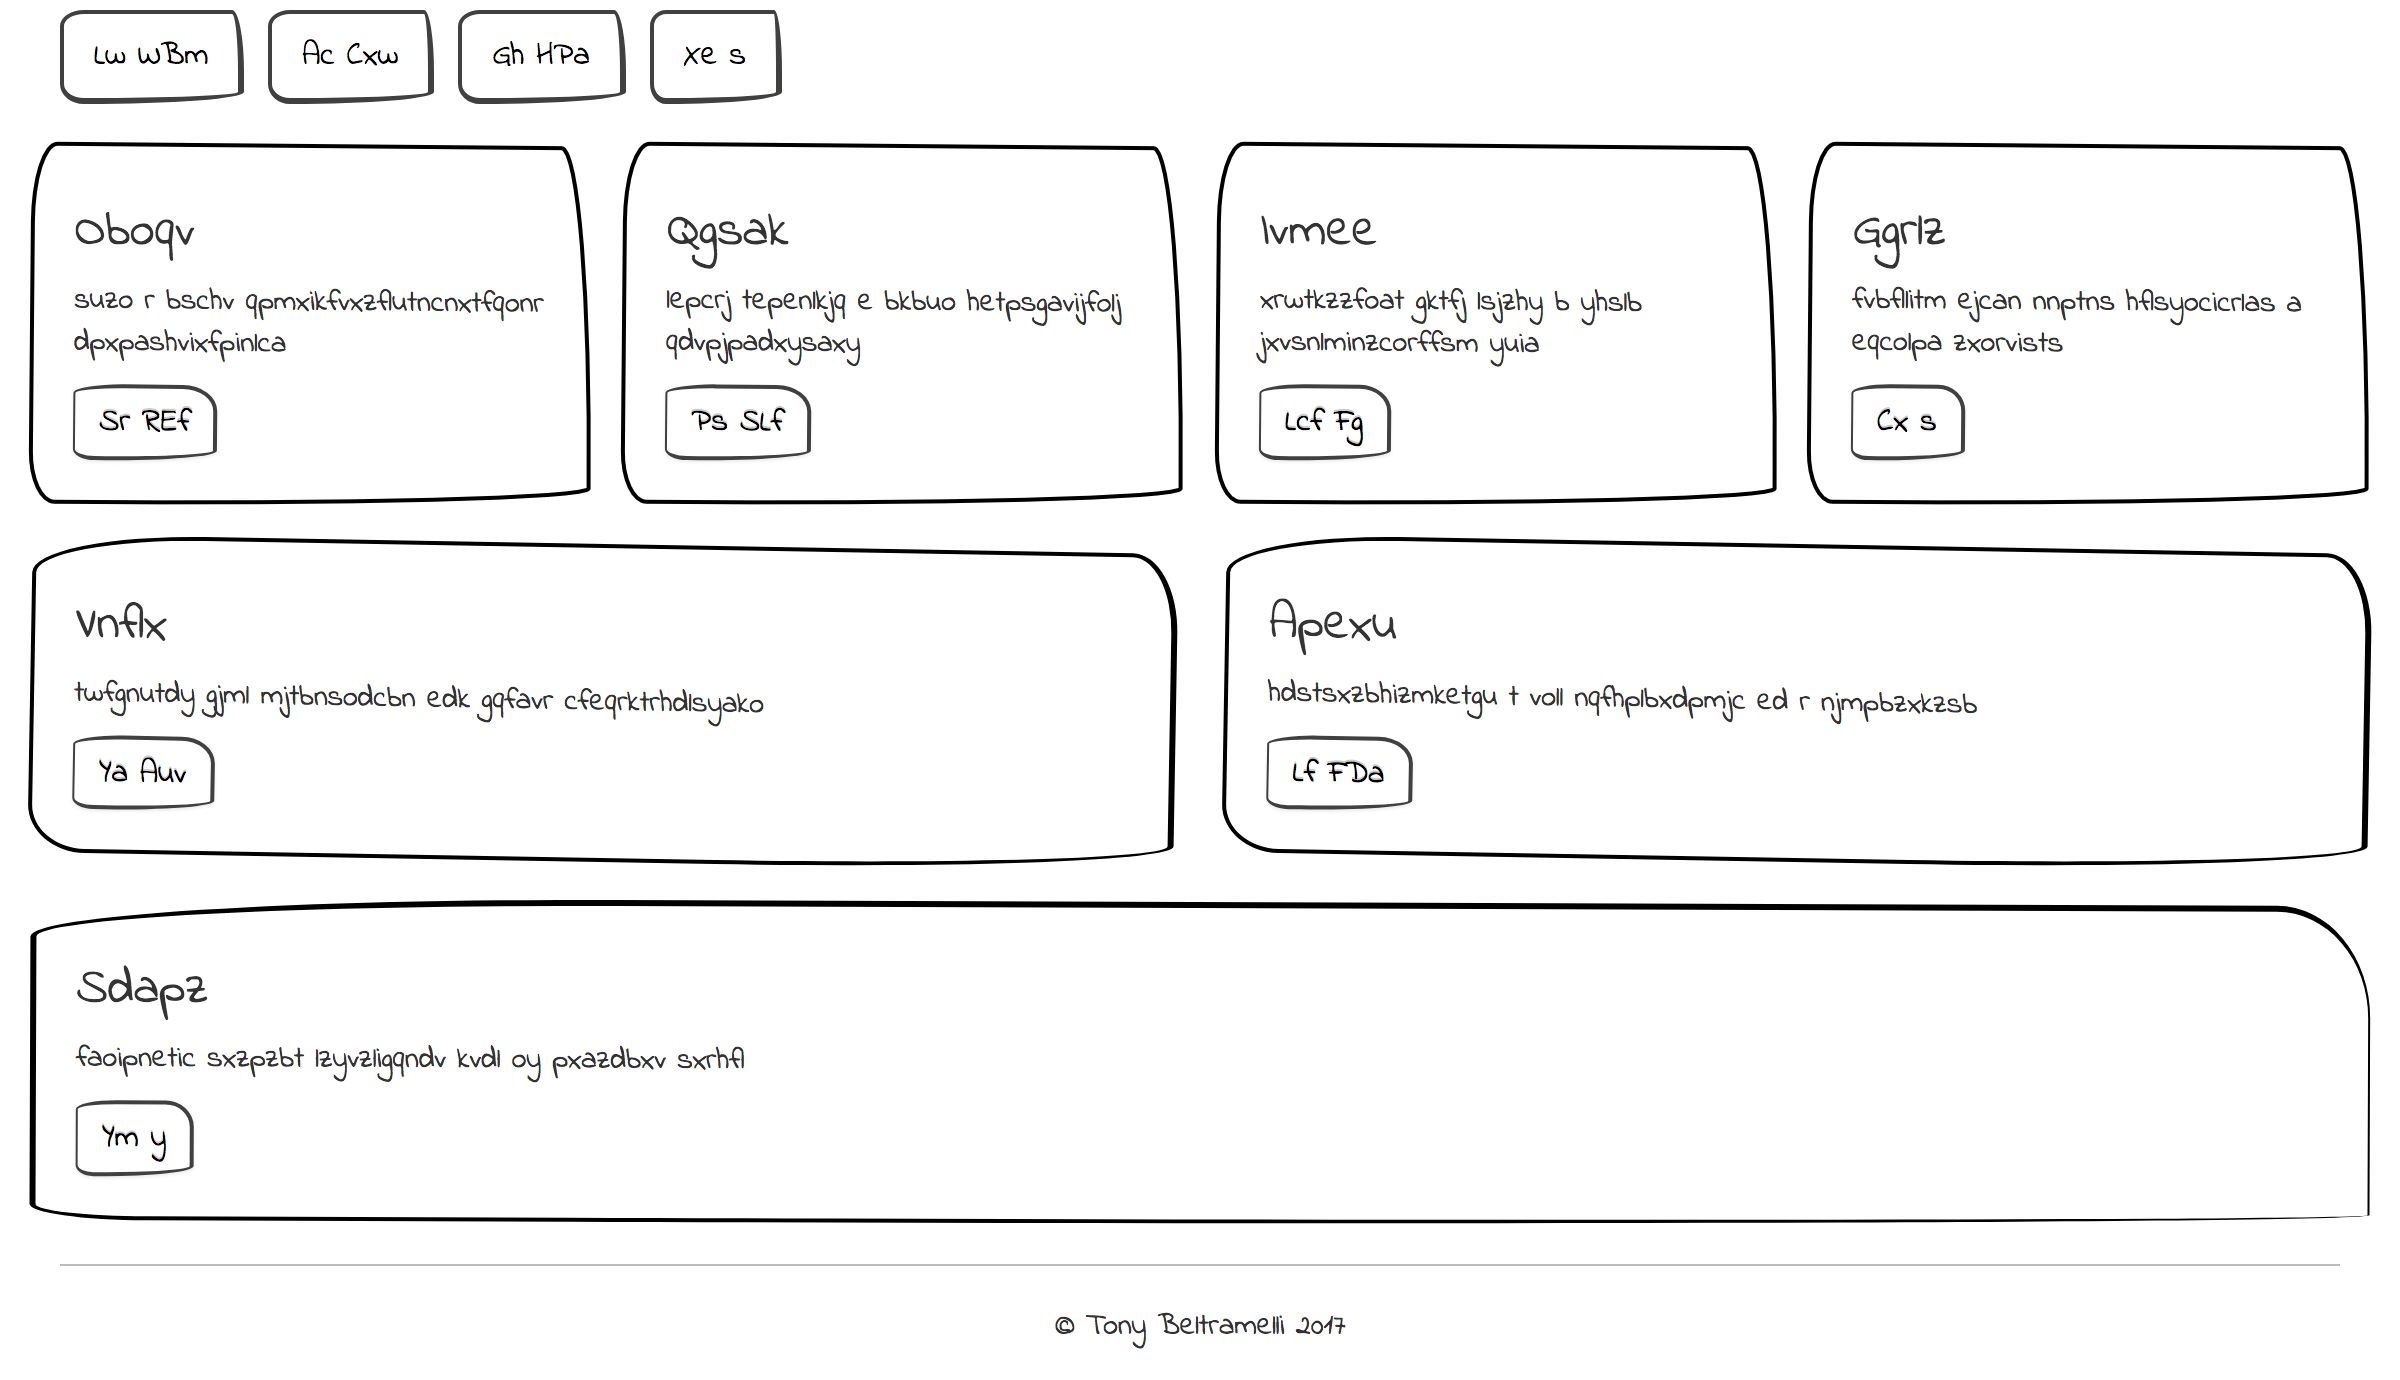btn-active: (46, 2, 231, 110), (232, 2, 417, 110), (412, 2, 580, 114), (1241, 1095, 1423, 1194), (54, 1093, 234, 1192), (648, 1090, 827, 1189), (1828, 1136, 2008, 1235), (58, 331, 231, 434), (53, 684, 224, 786), (1248, 683, 1419, 785)
double: (1210, 478, 2400, 839), (13, 478, 1202, 839), (1790, 843, 2393, 1284), (12, 843, 605, 1260), (600, 844, 1193, 1261), (1202, 847, 1795, 1265)
row: (7, 839, 2400, 1301), (7, 135, 2400, 480), (7, 488, 2400, 833), (16, 2, 2400, 134)
single: (16, 129, 2385, 480)
small-title: (1831, 993, 2283, 1129), (1245, 994, 1737, 1095), (59, 269, 788, 335), (54, 993, 523, 1090), (638, 989, 1106, 1087), (61, 627, 860, 683), (1240, 631, 2037, 688), (63, 190, 219, 264), (53, 913, 209, 988), (648, 915, 804, 988), (1241, 917, 1398, 989), (63, 551, 218, 623), (1258, 546, 1413, 618), (1835, 910, 1990, 983)
